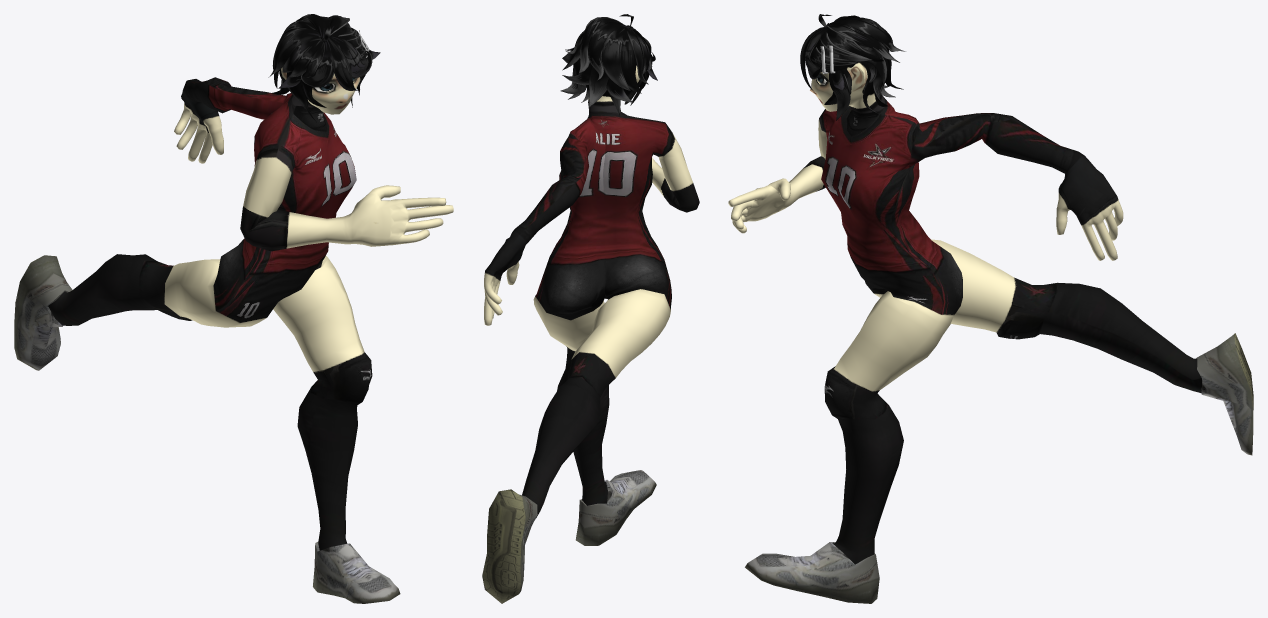
Rendered from PlayerRun5.obj.
3 views of the same model, side by side, from view 1: azimuth 30°, elevation 25°; view 2: azimuth 150°, elevation 25°; view 3: azimuth 270°, elevation 25° (orthographic). The views are drawn at different scales.
Parts seen in each view (by area): view 1: prueba, Hayr_4x4UV.003; view 2: prueba, Hayr_4x4UV.003; view 3: prueba, Hayr_4x4UV.003.
Part boxes in pixels (bbox=[...]): prueba: bbox=[14, 67, 453, 603]; Hayr_4x4UV.003: bbox=[268, 14, 380, 122]; prueba: bbox=[482, 36, 699, 603]; Hayr_4x4UV.003: bbox=[560, 14, 657, 116]; prueba: bbox=[728, 23, 1253, 603]; Hayr_4x4UV.003: bbox=[800, 14, 905, 120].
Size of the model in its own units: 2.7 by 8.49 by 7.03.
2 materials, 2 textured.
